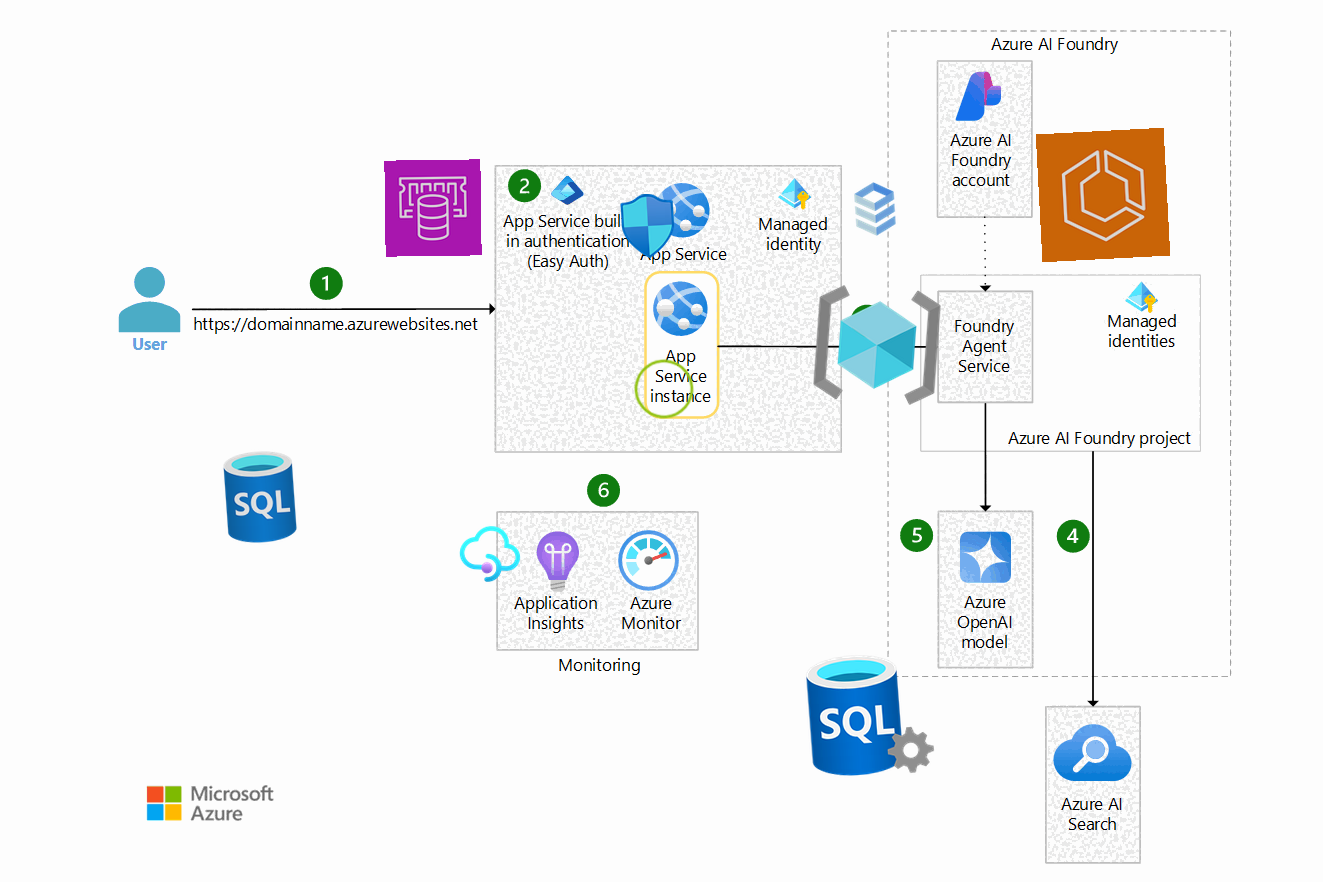aws_amazon_elastic_container_service: (1035, 127, 1171, 263)
aws_amazon_elasticache: (384, 159, 482, 257)
aws_simple_storage_service_object: (629, 354, 699, 424)
azure_api_management_services: (456, 520, 524, 588)
azure_network_security_groups: (614, 192, 682, 260)
azure_resource_groups: (808, 276, 946, 414)
azure_sql_database: (208, 445, 312, 549)
azure_sql_server: (801, 646, 939, 784)
gcp_cloud_sql: (840, 174, 910, 244)
